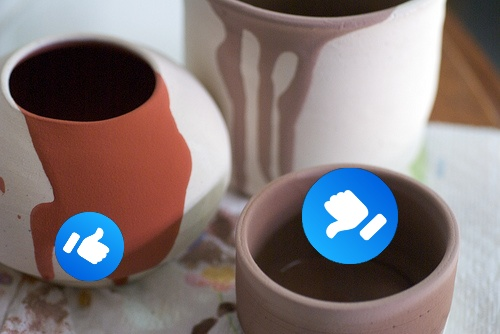like: (302, 168, 398, 264), (55, 212, 124, 281)
